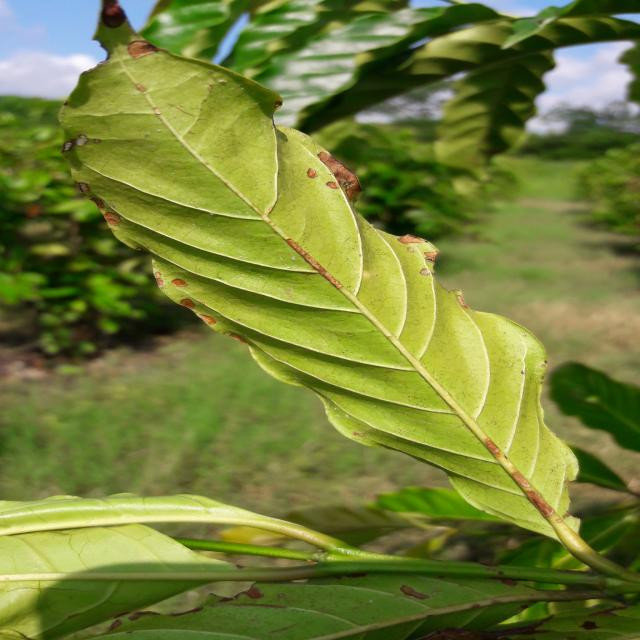Plaga-AranaRoja: (57, 0, 603, 563)
